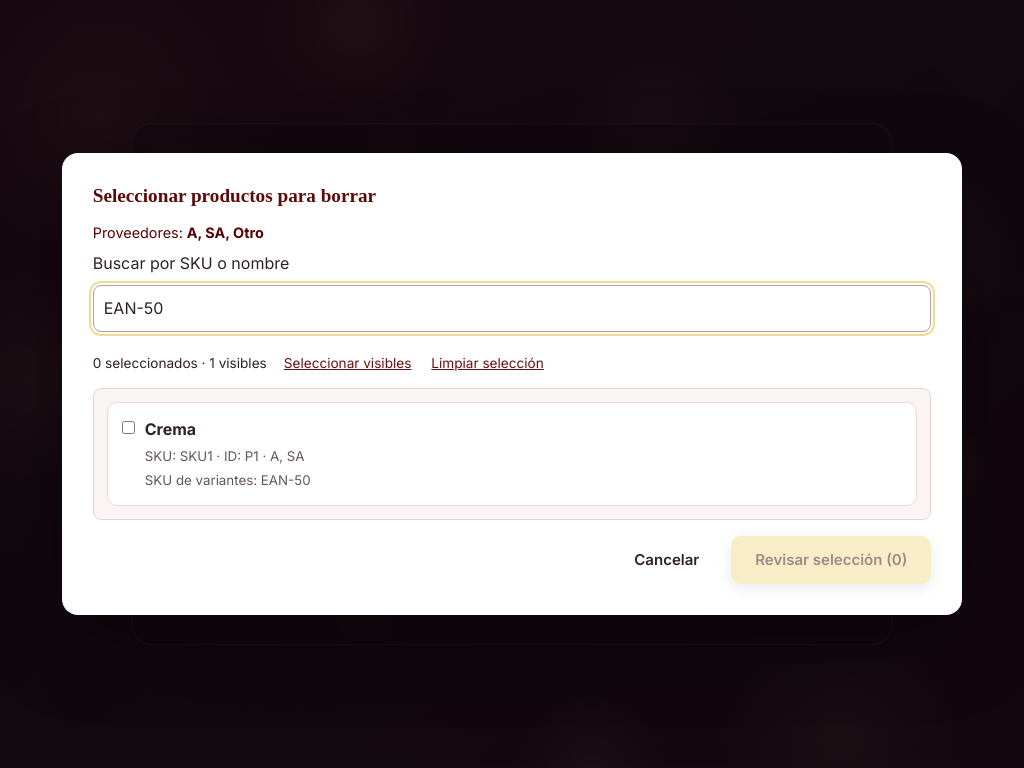
Test: selecciona productos de varios proveedores y busca SKU, variantes y nombre sin borrar los demás
The width and height of the screenshot is (1024, 768).
Earlier steps of the test are not shown.
Click the checkbox labelled "Crema SKU: SKU1 · ID: P1 · A, SA SKU de variantes: EAN-50" at (128, 428), box top-left (122, 421), bottom-right (135, 434)
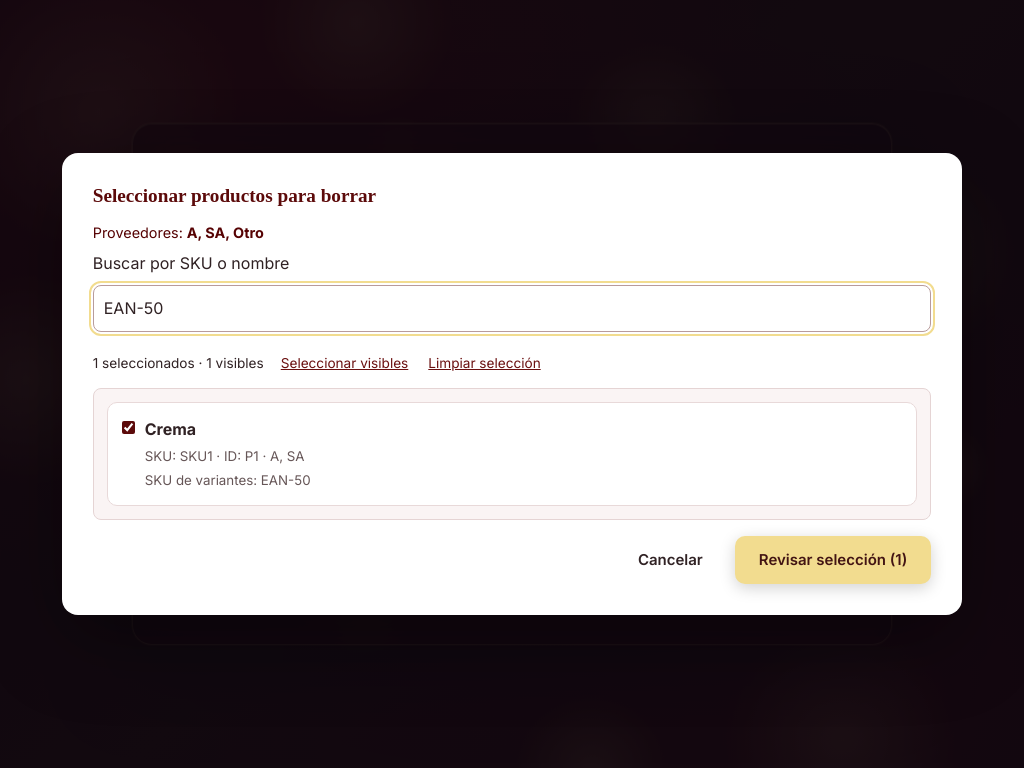
Replace the text in the field labelled "Buscar por SKU o nombre" with "jabon" at (512, 309), box top-left (93, 285), bottom-right (931, 332)
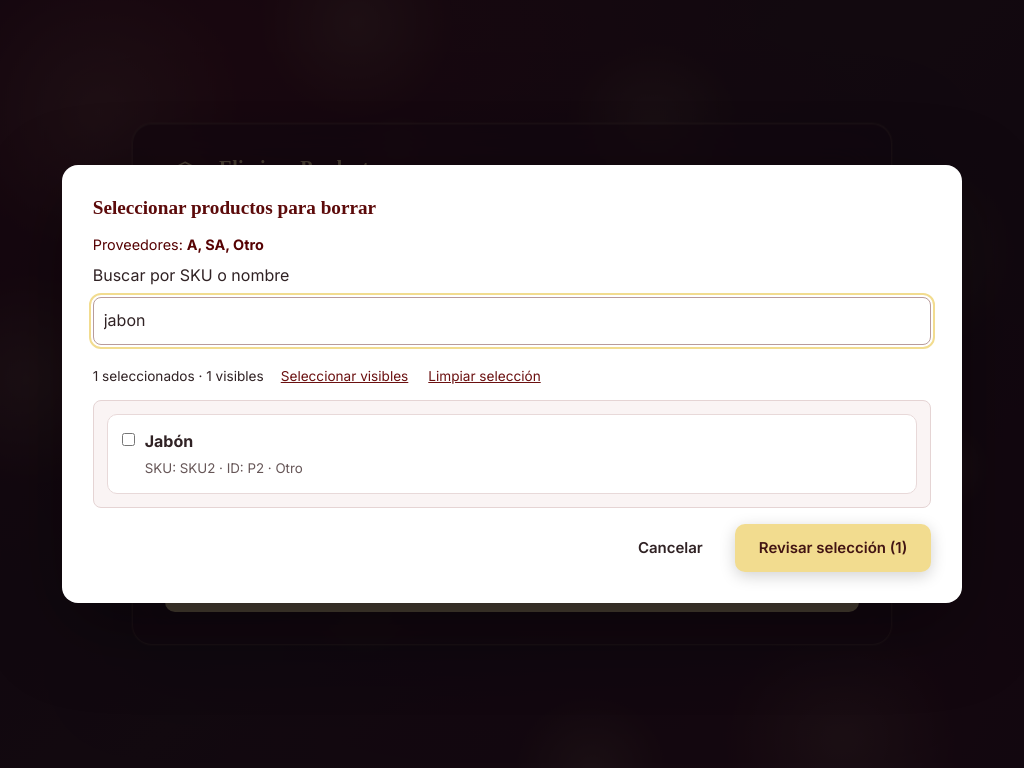
Click the checkbox labelled "Jabón SKU: SKU2 · ID: P2 · Otro" at (128, 440), box top-left (122, 433), bottom-right (135, 446)
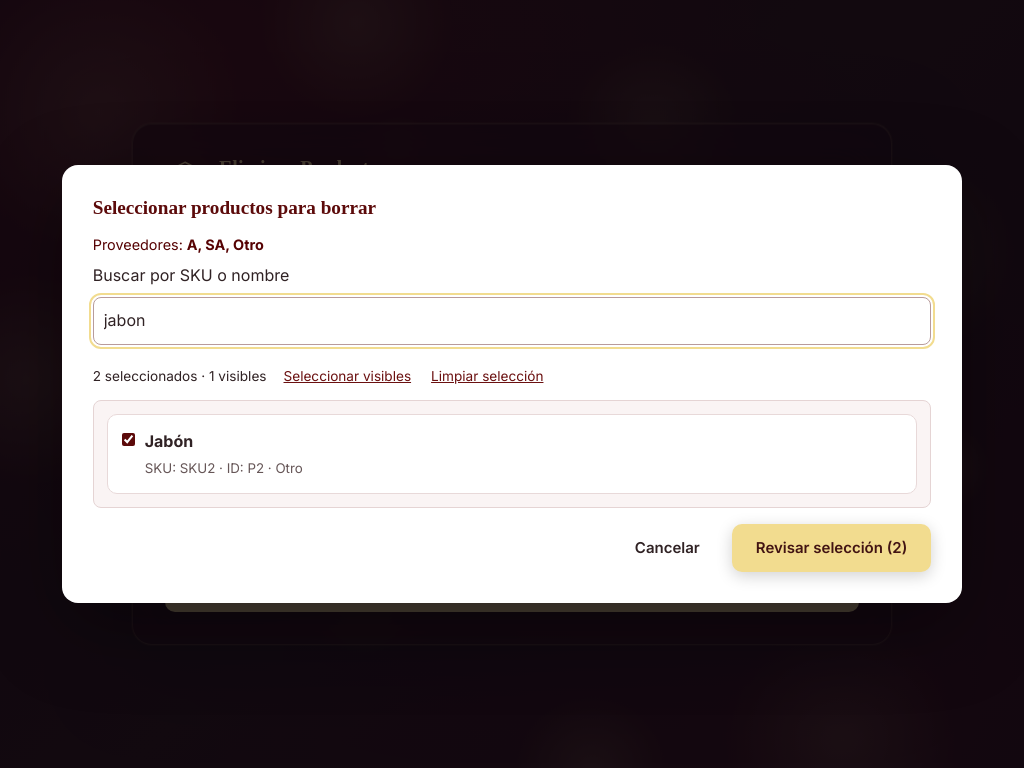
Click the button "Revisar selección (2)" at (832, 548), box top-left (732, 524), bottom-right (931, 572)
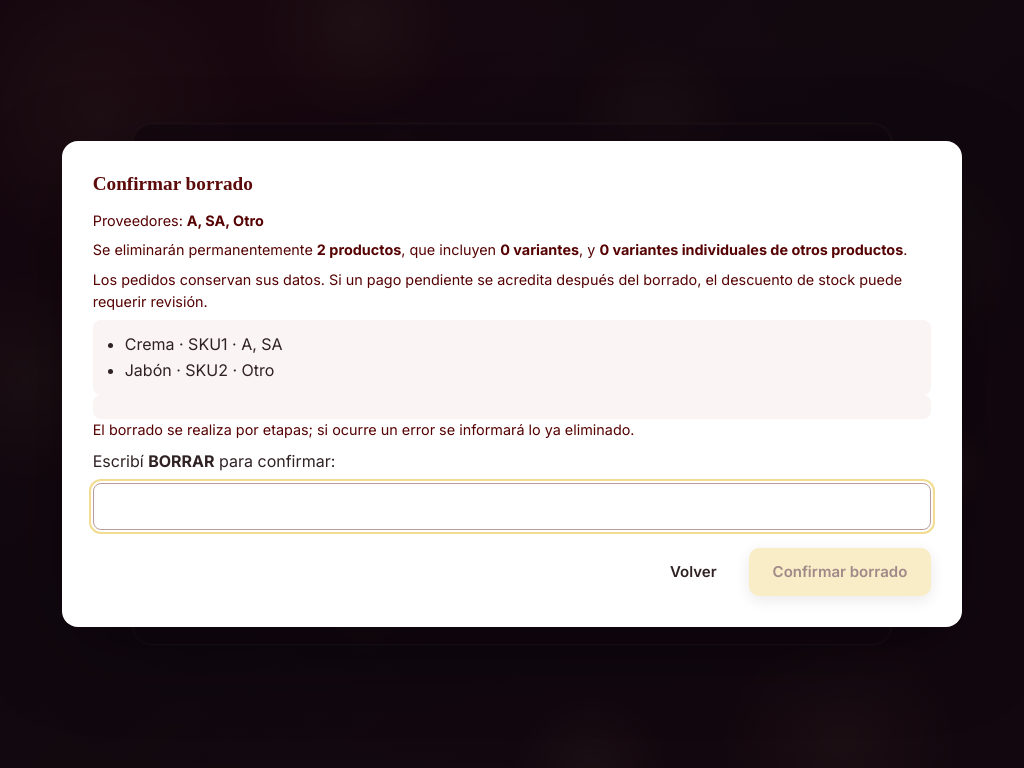
Expected: the button "Confirmar borrado" is disabled, top-left (749, 548), bottom-right (931, 596)
Type "BORRAR" into the field at (512, 506), box top-left (93, 483), bottom-right (931, 530)
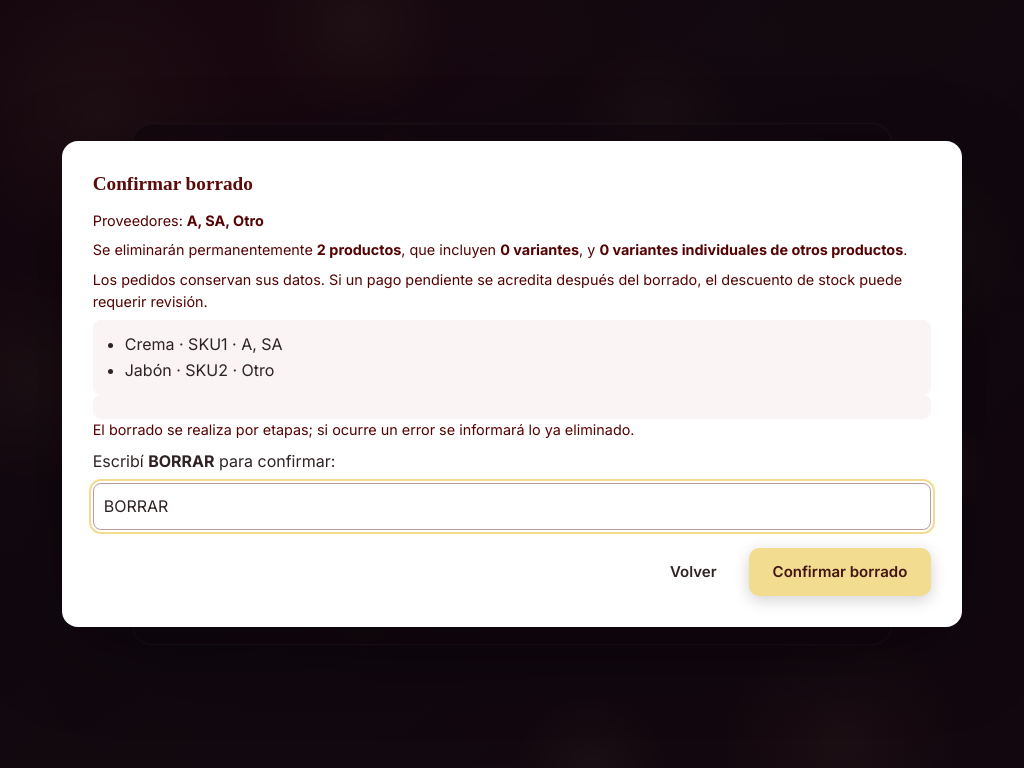
Click the button "Confirmar borrado" at (840, 572), box top-left (749, 548), bottom-right (931, 596)
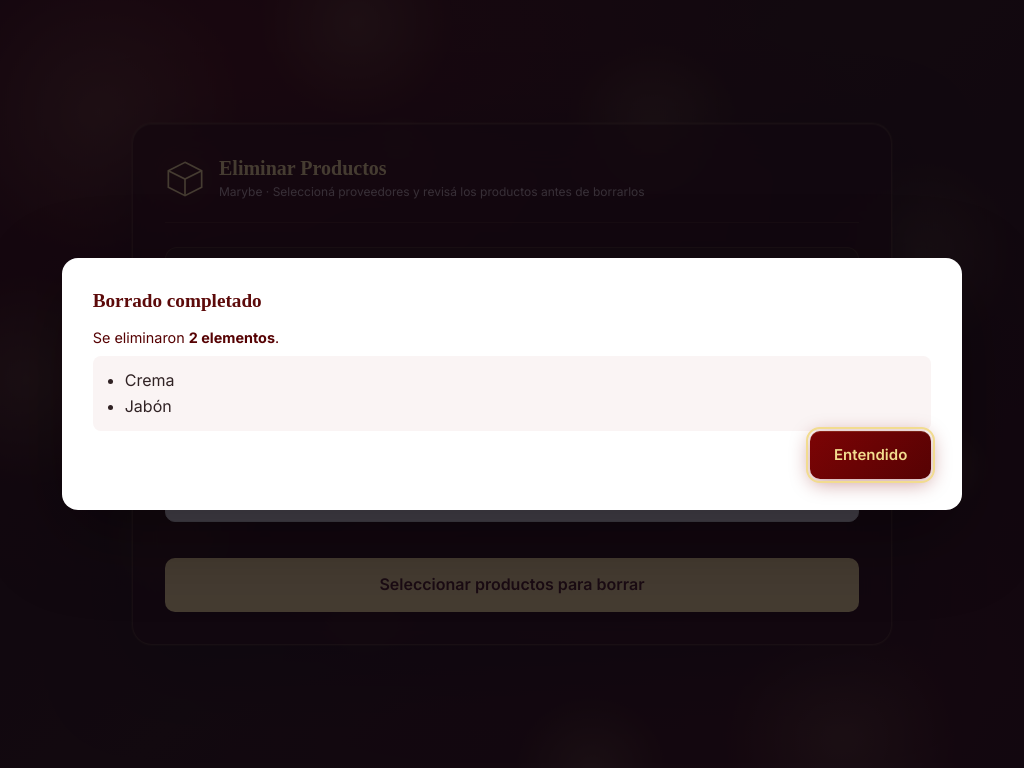
Expected: the text "Se eliminaron 2 elementos." is shown, top-left (93, 329), bottom-right (279, 346)
